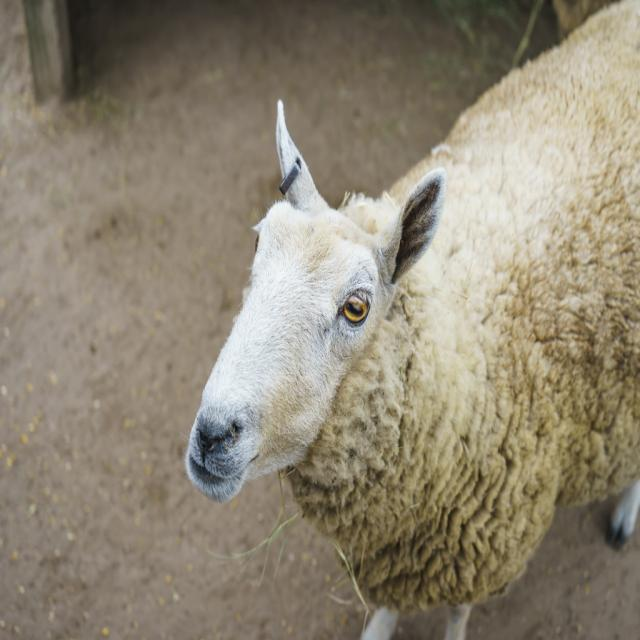Sheep: (178, 0, 640, 640)
